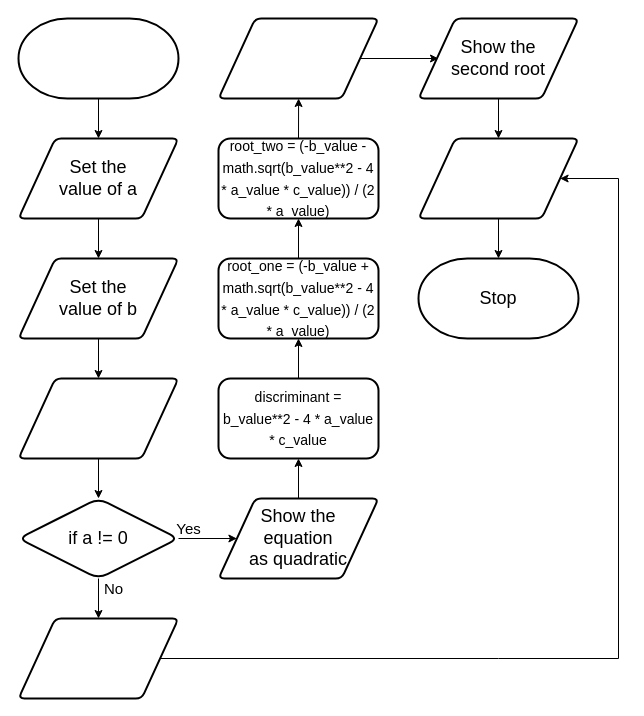
Image size: 644x716. Some labels were removed from this diagram. Each missing label, with the centre of its shape:
"Set the value of c" goes at point (98, 418).
"Show the equation as not quadratic" goes at point (98, 658).
"Show the first root" goes at point (298, 58).
"Show the program as done" goes at point (498, 178).
"Start" goes at point (98, 58).
